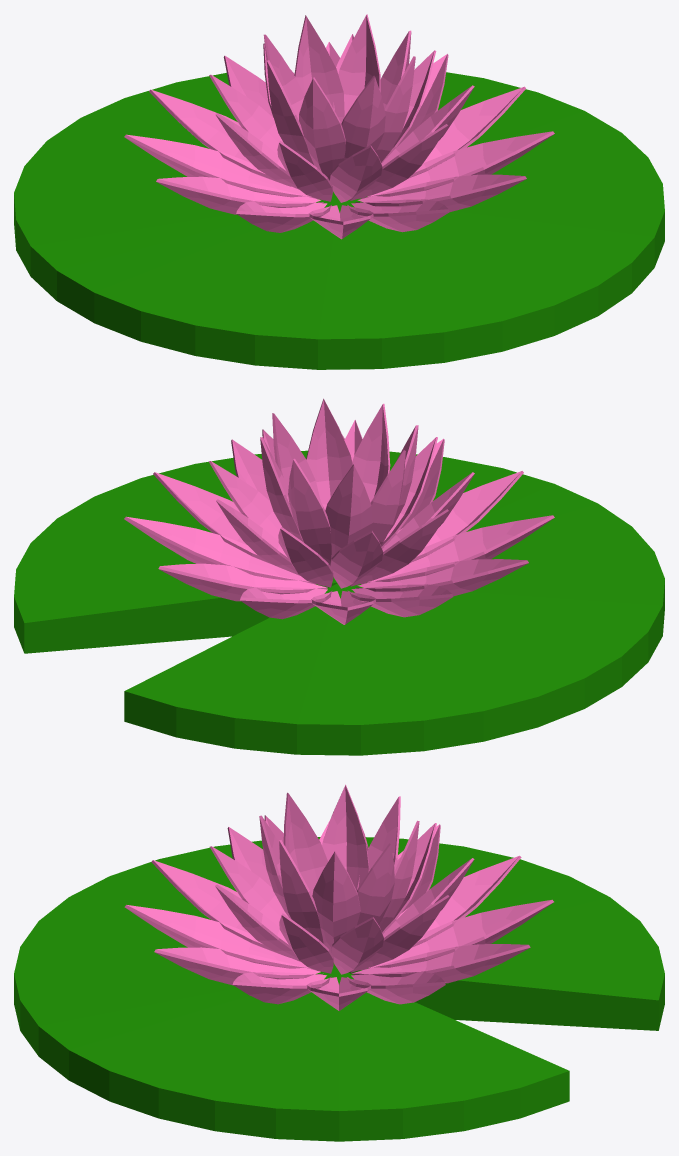
File: Lillypad.fbx
The picture shows the model from 3 angles, top to bottom: view 1: azimuth 30°, elevation 25°; view 2: azimuth 150°, elevation 25°; view 3: azimuth 270°, elevation 25°; orthographic projection.
Visible parts, largest first — view 1: Cylinder, Plane.001; view 2: Cylinder, Plane.001; view 3: Cylinder, Plane.001.
Part boxes in pixels (box(x1,y1,x2,y2)): Cylinder: box(14, 72, 664, 369); Plane.001: box(124, 14, 554, 239); Cylinder: box(14, 450, 664, 755); Plane.001: box(124, 398, 554, 624); Cylinder: box(14, 837, 664, 1141); Plane.001: box(124, 784, 553, 1010).
Bounding box in the file's own units: 138 × 45.88 × 138.
